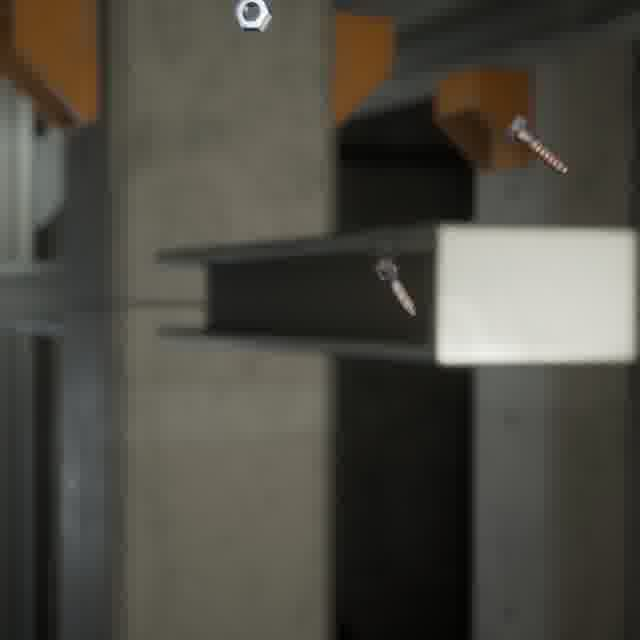bolt: (498, 110, 572, 180), (369, 253, 420, 320)
nut: (229, 0, 277, 36)
